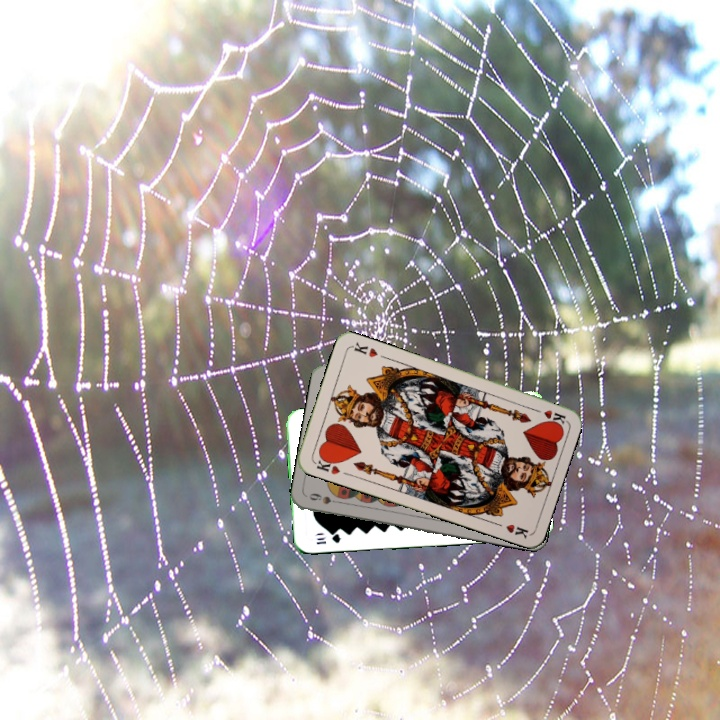G10: (312, 530, 343, 547)
HK: (527, 404, 568, 427), (311, 452, 342, 477)
S9: (305, 489, 345, 507)
